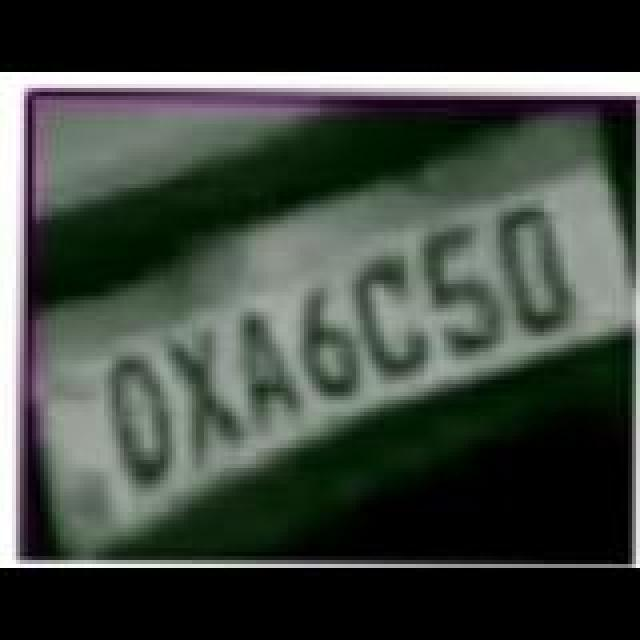5: (424, 224, 504, 360)
6: (296, 290, 368, 406)
A: (232, 310, 304, 434)
C: (352, 256, 432, 384)
D: (498, 204, 582, 340)
O: (108, 358, 180, 498)
X: (168, 332, 248, 460)
